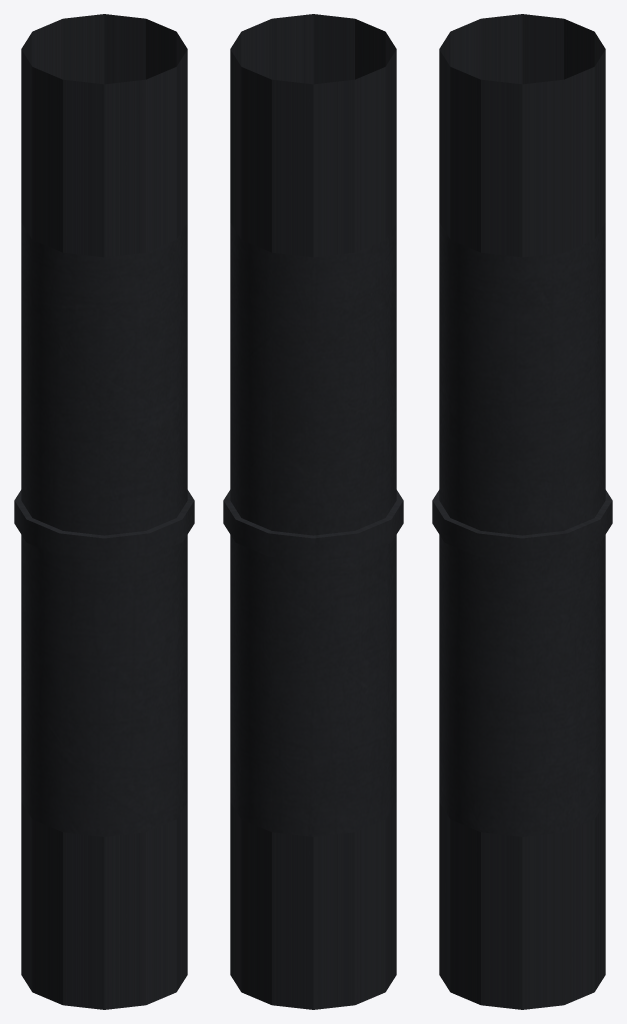
File: putki2.FBX
The picture shows the model from 3 angles, left to right: view 1: azimuth 30°, elevation 25°; view 2: azimuth 150°, elevation 25°; view 3: azimuth 270°, elevation 25°; orthographic projection.
Parts seen in each view (by area): view 1: Cylinder003; view 2: Cylinder003; view 3: Cylinder003.
Boxes of the visible parts, x1,y1,x2,y2 form: Cylinder003: (14, 14, 194, 1009); Cylinder003: (223, 14, 403, 1009); Cylinder003: (432, 14, 612, 1009).
Bounding box in the file's own units: 1.32 × 7.51 × 1.32.
1 material, 1 textured.
